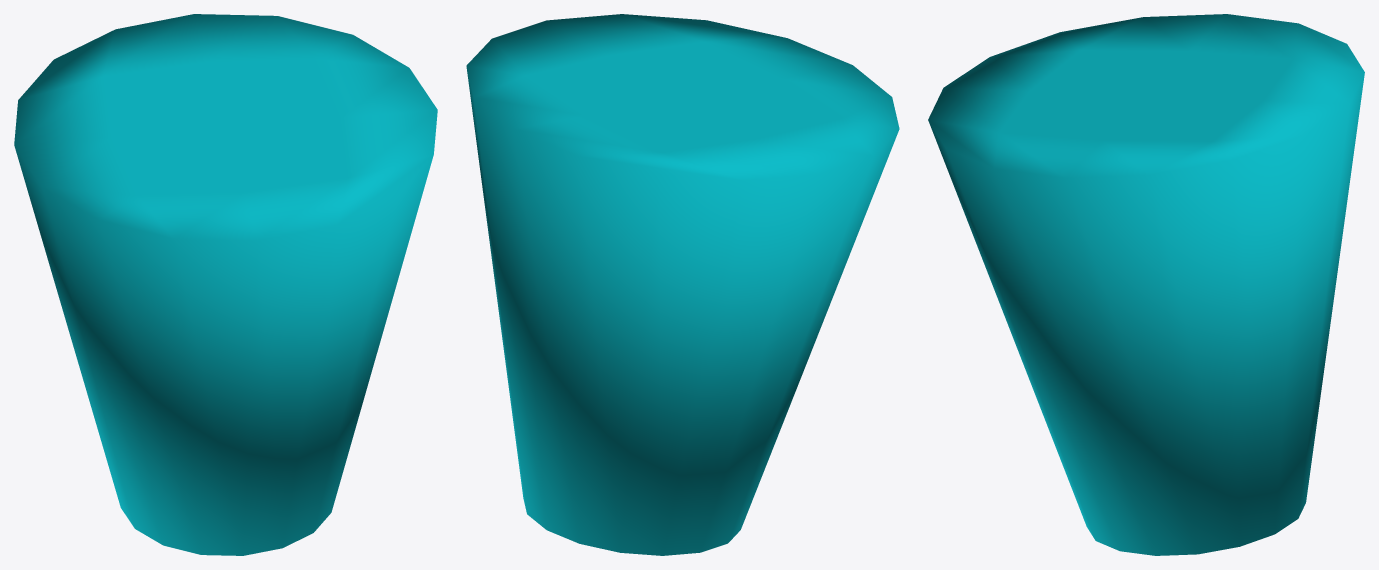
File: waterInCup.glb
3 views of the same model, side by side, from view 1: azimuth 30°, elevation 25°; view 2: azimuth 150°, elevation 25°; view 3: azimuth 270°, elevation 25° (orthographic). The views are drawn at different scales.
Visible parts, largest first — view 1: Water_Inside_Cup; view 2: Water_Inside_Cup; view 3: Water_Inside_Cup.
Boxes of the visible parts, <box> form: Water_Inside_Cup: <box>14,14,437,555</box>; Water_Inside_Cup: <box>466,14,899,555</box>; Water_Inside_Cup: <box>928,14,1364,555</box>.
Bounding box in the file's own units: 0.0724 × 0.0808 × 0.0721.
1 material, 1 textured.
